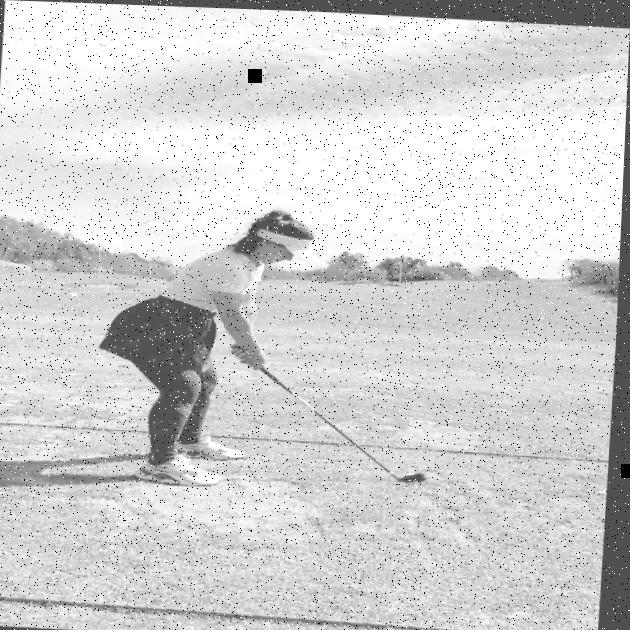ClubHead: (402, 468, 431, 478)
GolfBall: (410, 469, 420, 473)
